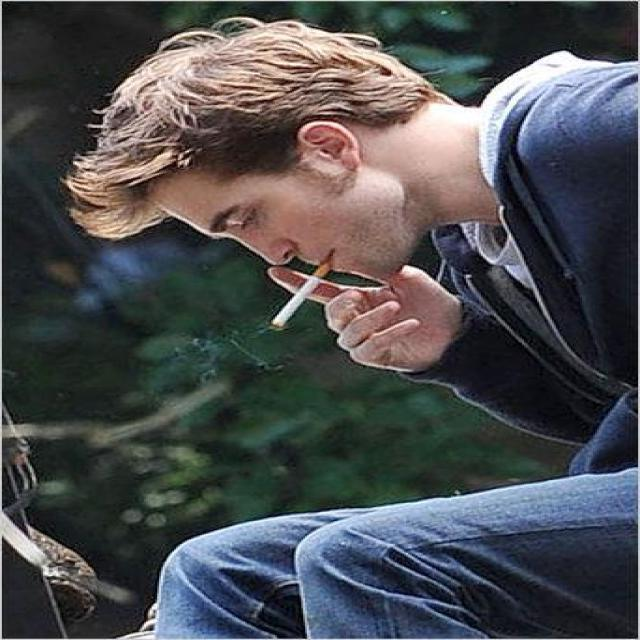cigarette: (243, 258, 348, 350)
